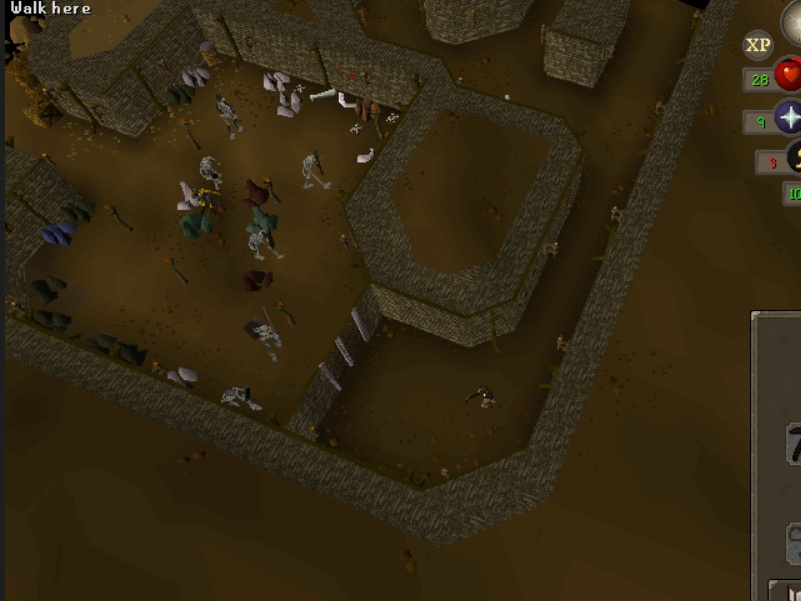adamant: (243, 206, 280, 239), (179, 205, 216, 238)
coal: (28, 273, 70, 305), (30, 307, 72, 334), (63, 200, 98, 225), (164, 82, 199, 107), (83, 331, 118, 356), (116, 342, 151, 367)
copper: (350, 92, 383, 123)
iron: (238, 265, 276, 294), (242, 177, 270, 208)
mithril: (40, 216, 79, 251)
silver: (172, 177, 202, 211), (259, 64, 293, 92), (271, 89, 305, 117)
tin: (180, 64, 217, 90), (165, 362, 202, 388)
